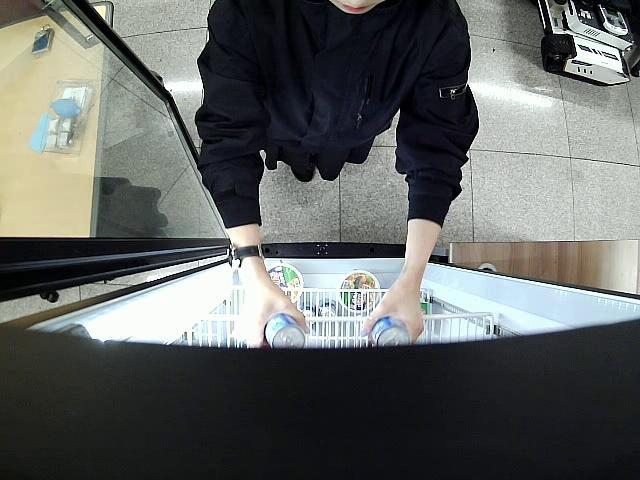15_letsbe: (262, 309, 307, 348), (370, 316, 409, 348)
